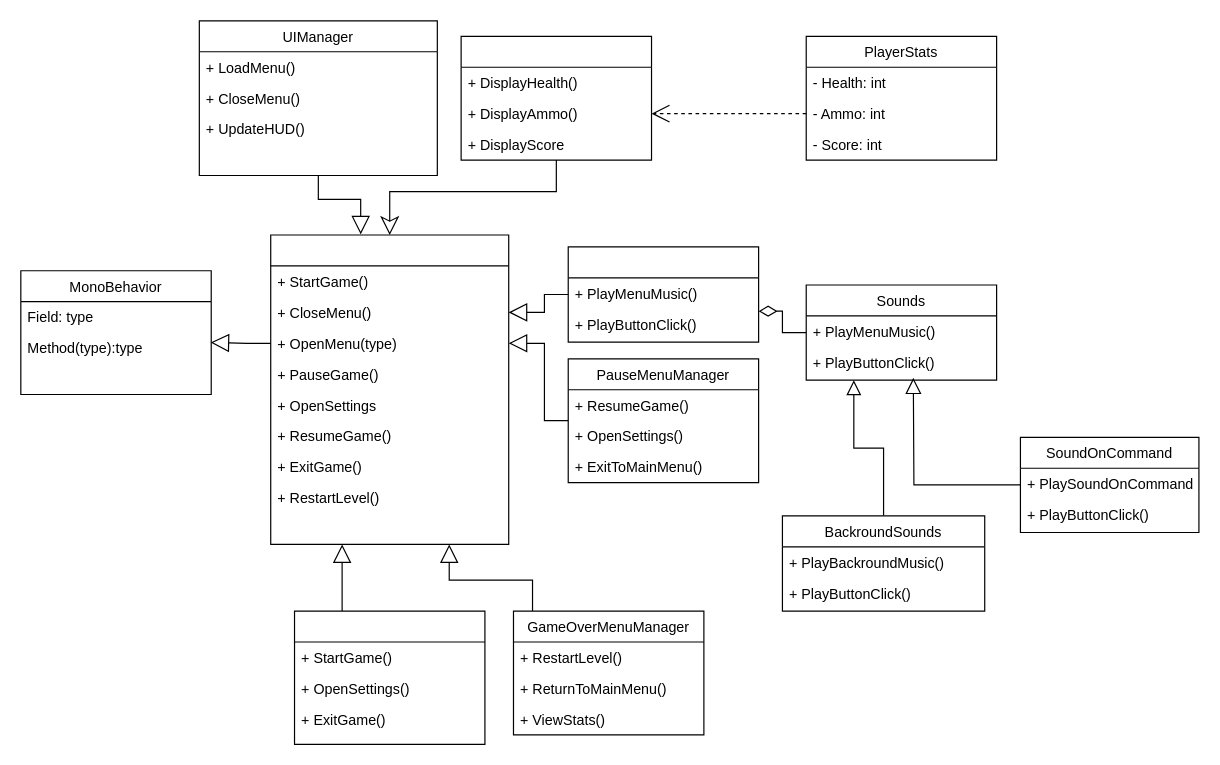
This 1220x765 diagram has some shape labels left out. Each missing label, with the box of its shape:
AudioManager: (567, 246, 759, 342)
HUDManager: (460, 35, 652, 160)
MainMenuManager: (293, 610, 485, 744)
MenuManager: (270, 234, 509, 544)
